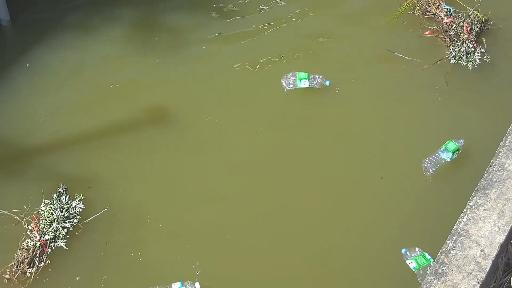plastic: (413, 138, 469, 177), (403, 240, 441, 285), (279, 72, 331, 89), (139, 280, 210, 288)
twig: (0, 190, 108, 279), (382, 0, 474, 61)
